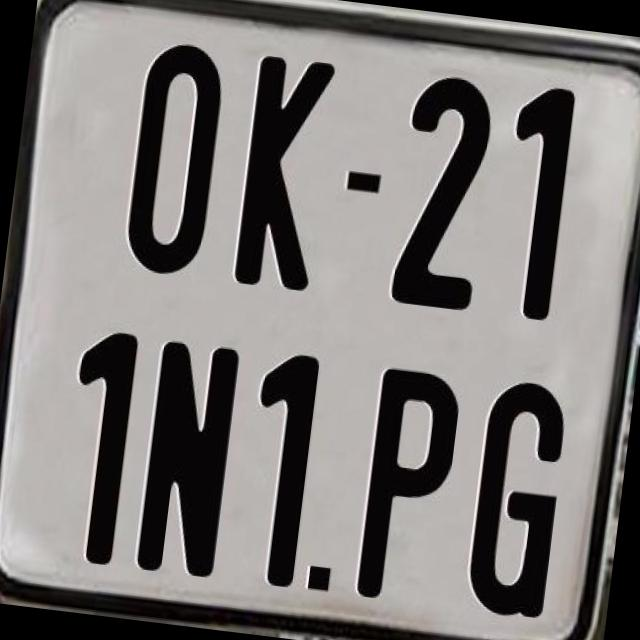0: (122, 40, 231, 278)
1: (236, 348, 323, 594), (490, 83, 576, 322), (56, 323, 139, 562)
2: (386, 69, 501, 308)
G: (464, 375, 576, 618)
K: (233, 50, 344, 294)
N: (134, 334, 248, 577)
P: (352, 366, 468, 612)
